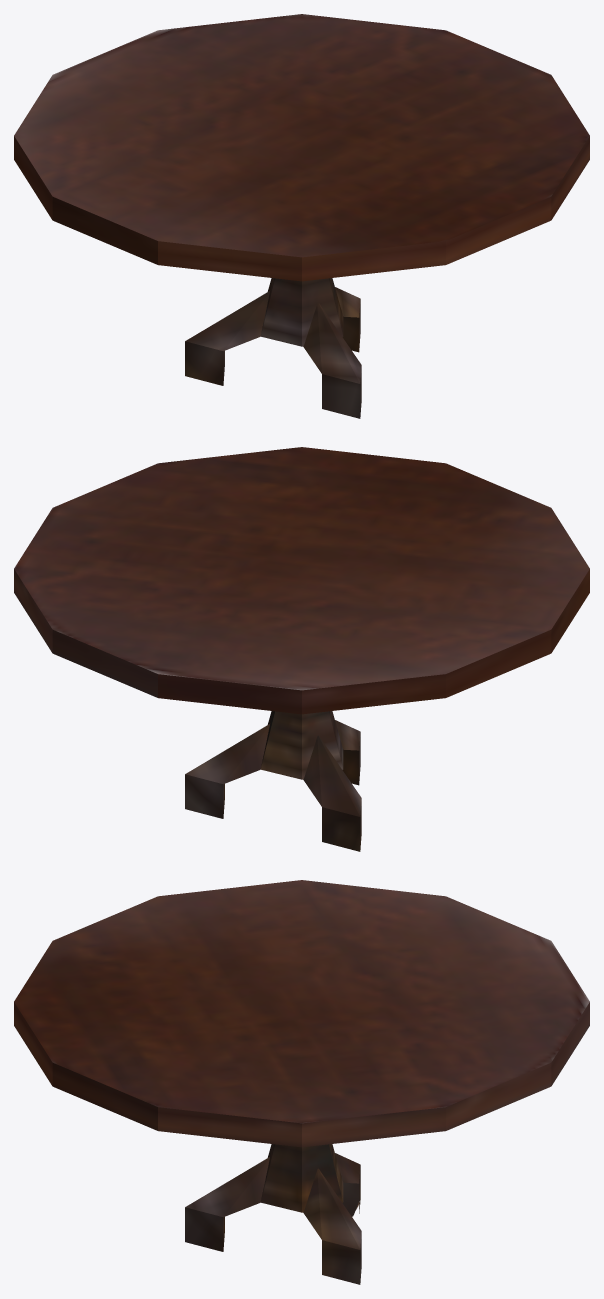
Rendered from table.fbx.
The picture shows the model from 3 angles, top to bottom: view 1: azimuth 30°, elevation 25°; view 2: azimuth 150°, elevation 25°; view 3: azimuth 270°, elevation 25°; orthographic projection.
Parts seen in each view (by area): view 1: Table; view 2: Table; view 3: Table.
Boxes of the visible parts, <box> form: Table: <box>14,14,589,418</box>; Table: <box>14,447,589,851</box>; Table: <box>14,880,589,1284</box>.
Bounding box in the file's own units: 230 × 106 × 230.
Materials: 1 (1 with a texture image).
